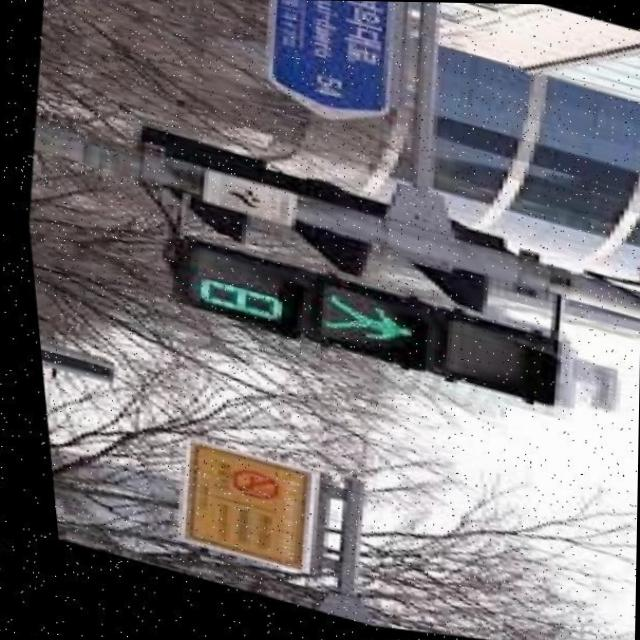green_light: (173, 256, 413, 371)
